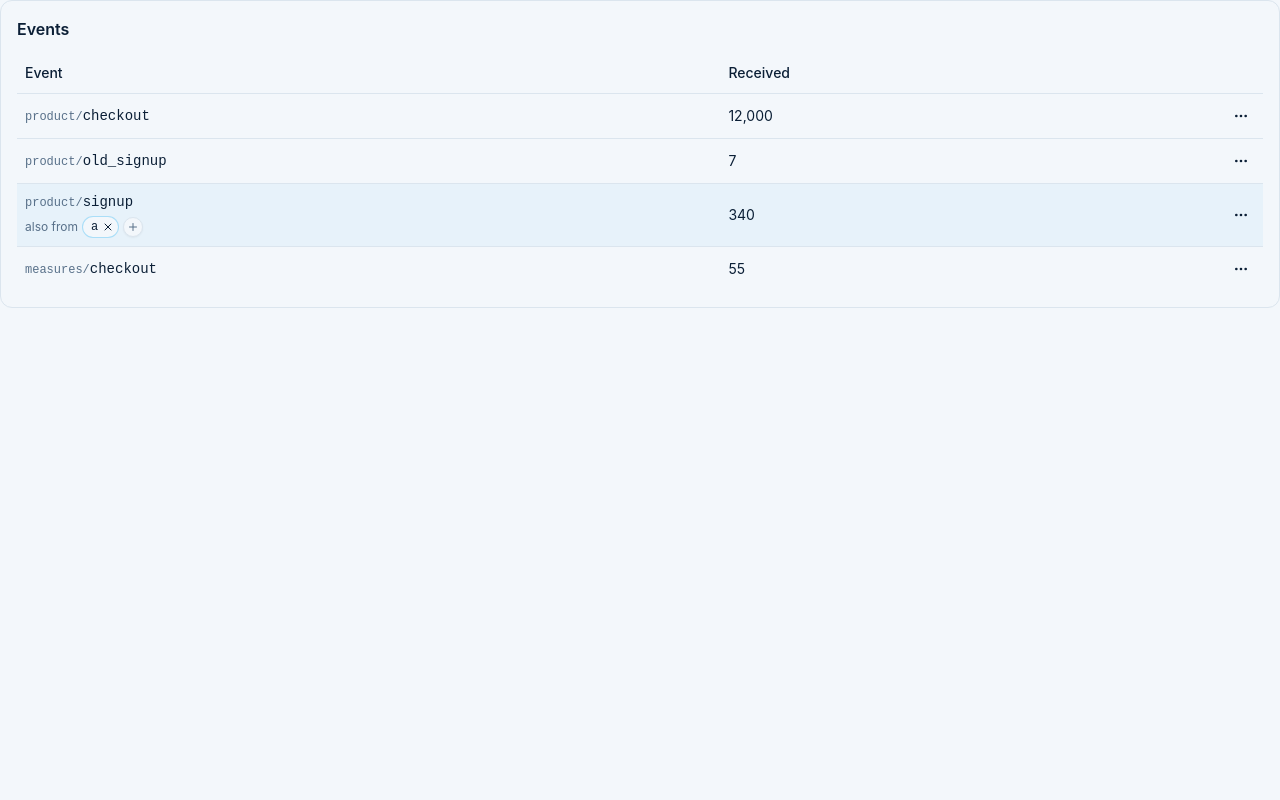
Test: EventsSection › refuses an empty alias, a $ name, the event itself and an existing alias
Click the button named "Add alias to signup" at {"x": 133, "y": 226}, box [123,216,143,236]
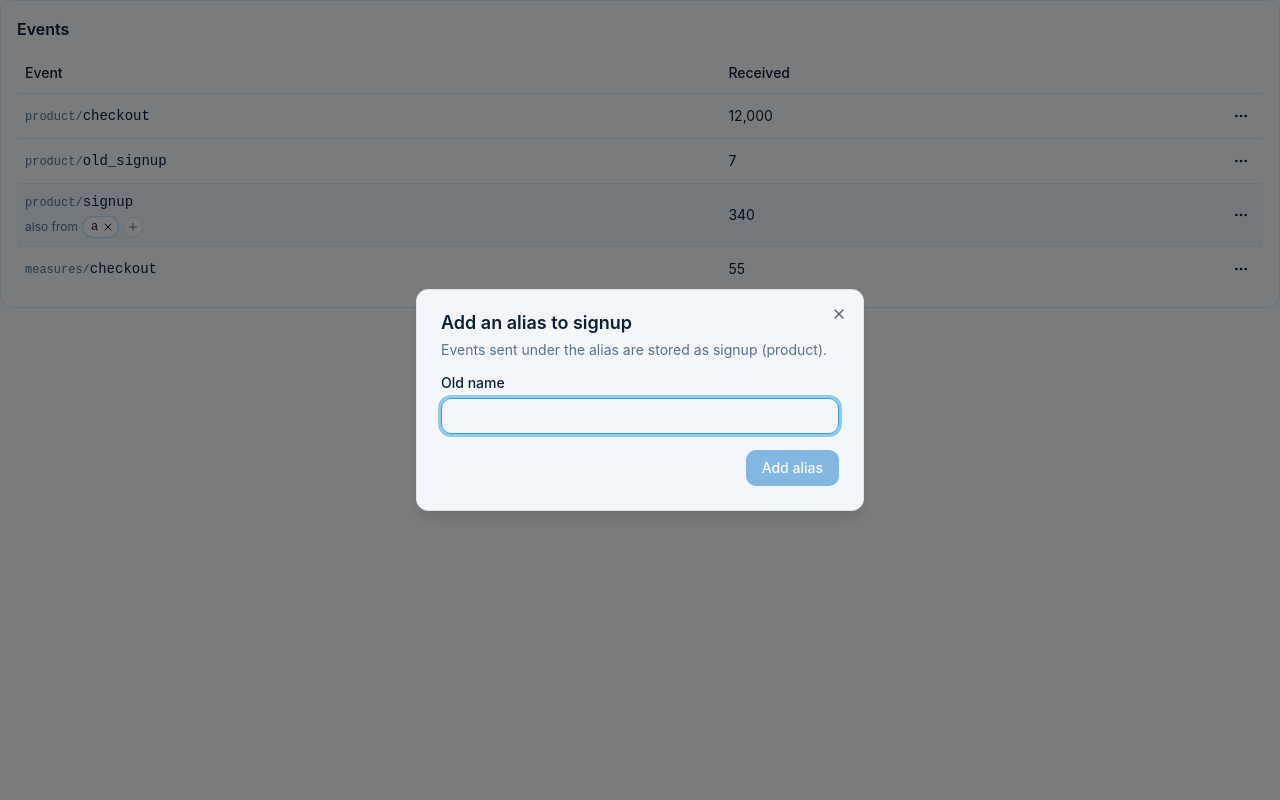
Expected: the button "Add alias" is disabled, [746,450,839,486]
Type "$x" into the field labelled "Old name" at {"x": 640, "y": 416}, box [441,398,839,434]
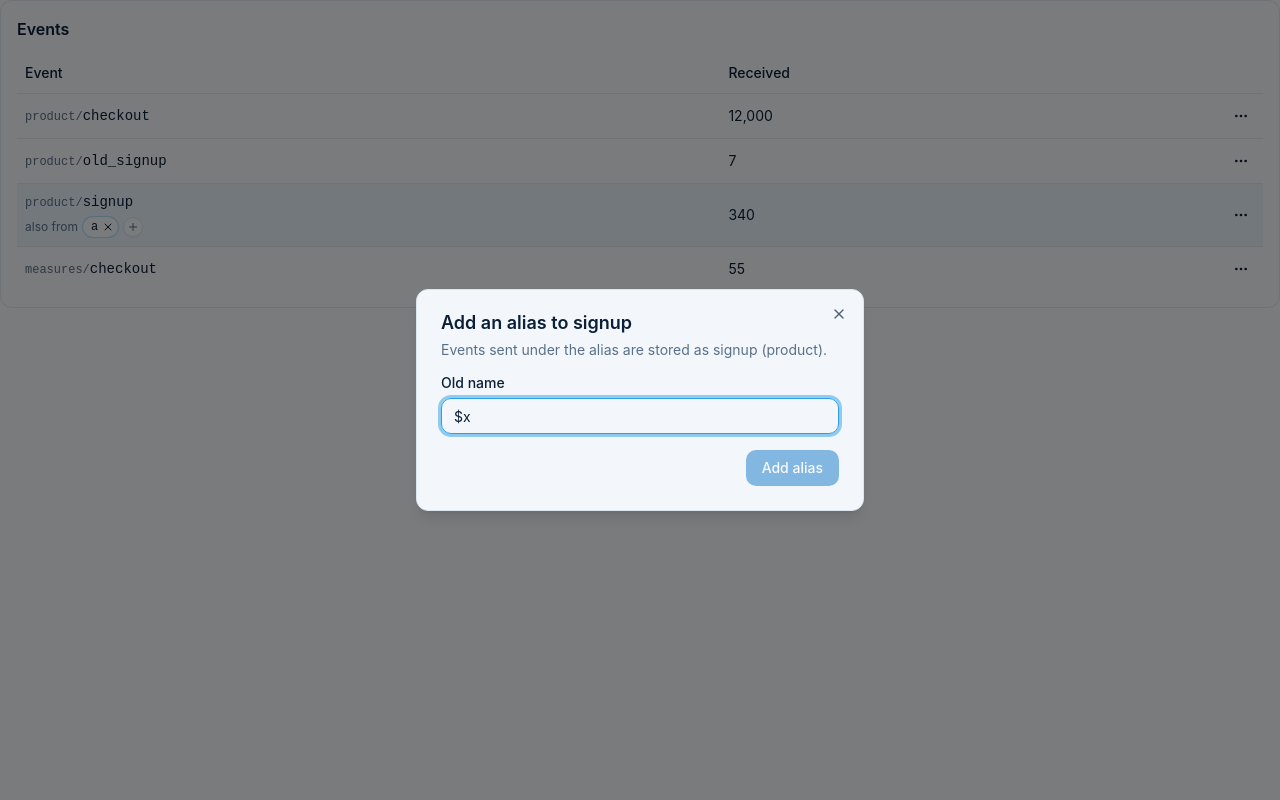
Expected: the button "Add alias" is disabled, [746,450,839,486]
Replace the text in the field labelled "Old name" with "signup" at {"x": 640, "y": 416}, box [441,398,839,434]
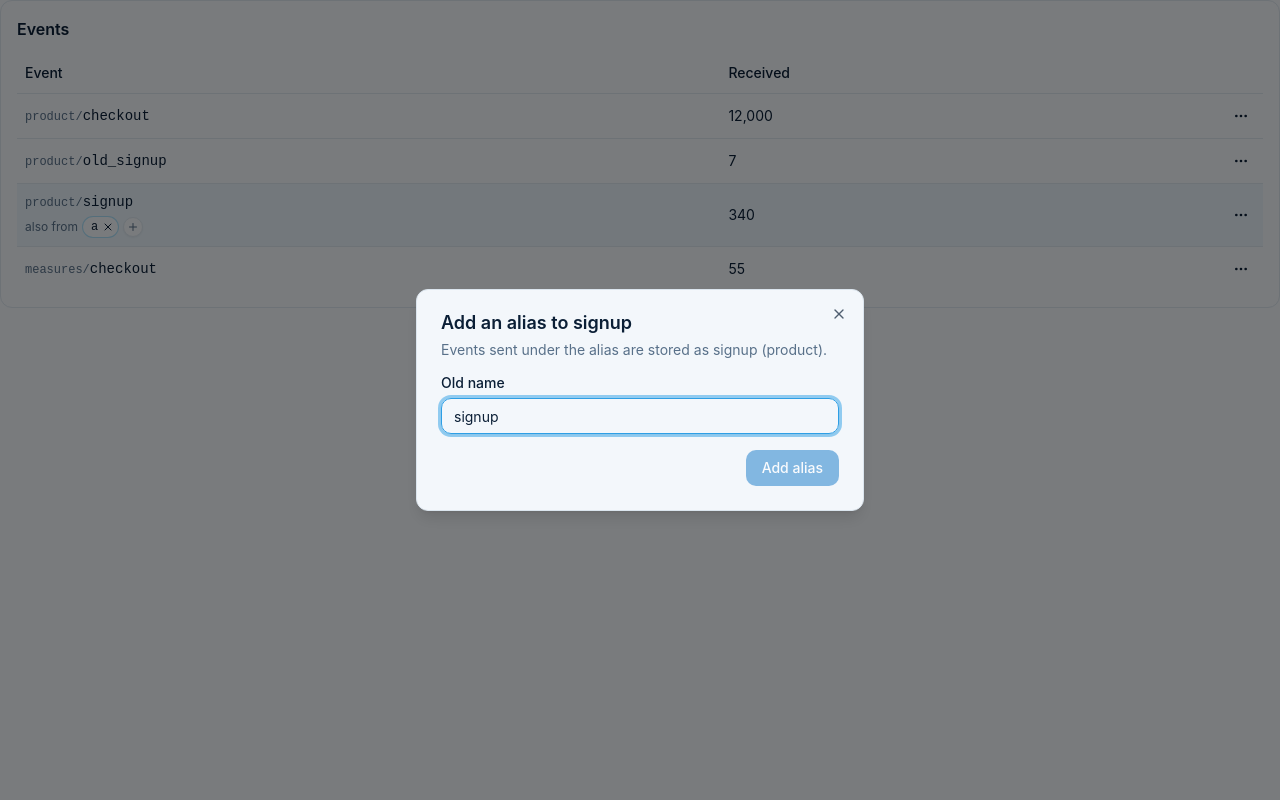
Expected: the button "Add alias" is disabled, [746,450,839,486]
Replace the text in the field labelled "Old name" with "a" at {"x": 640, "y": 416}, box [441,398,839,434]
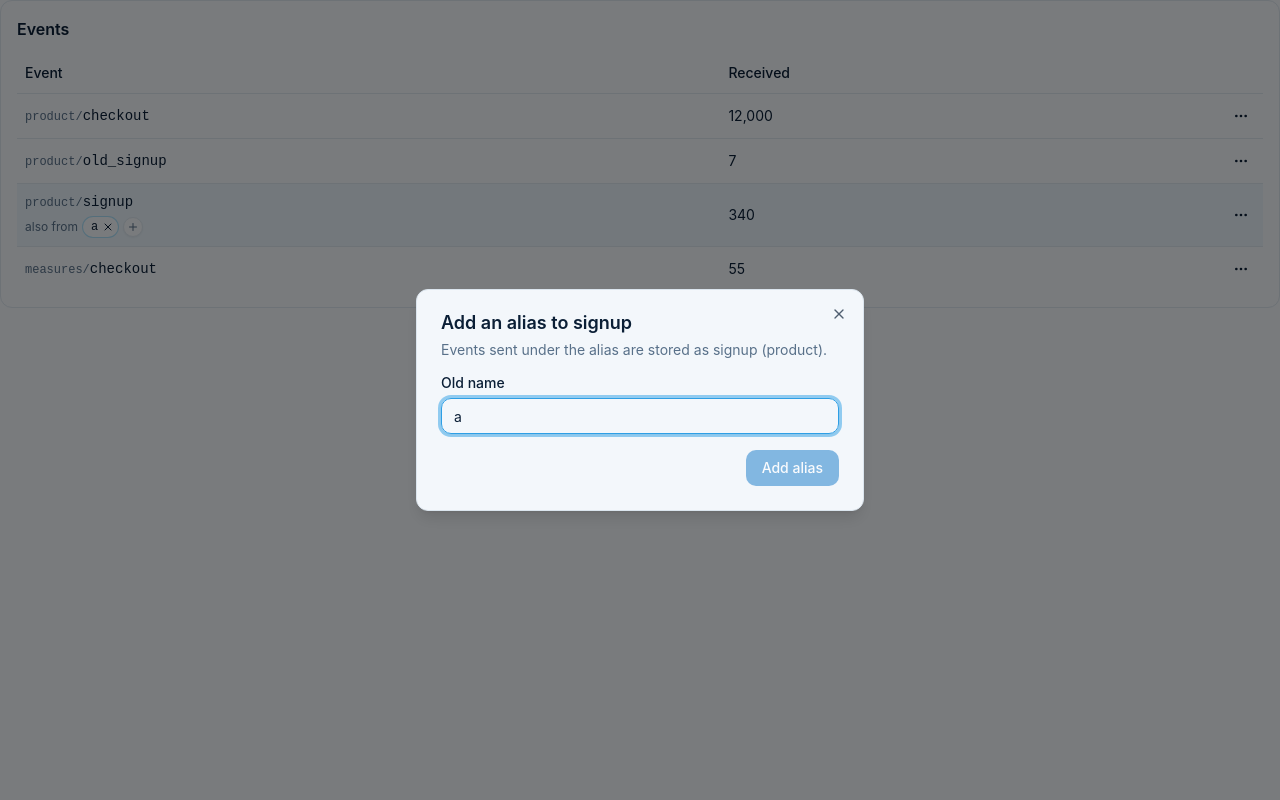
Expected: the button "Add alias" is disabled, [746,450,839,486]
Replace the text in the field labelled "Old name" with "b" at {"x": 640, "y": 416}, box [441,398,839,434]
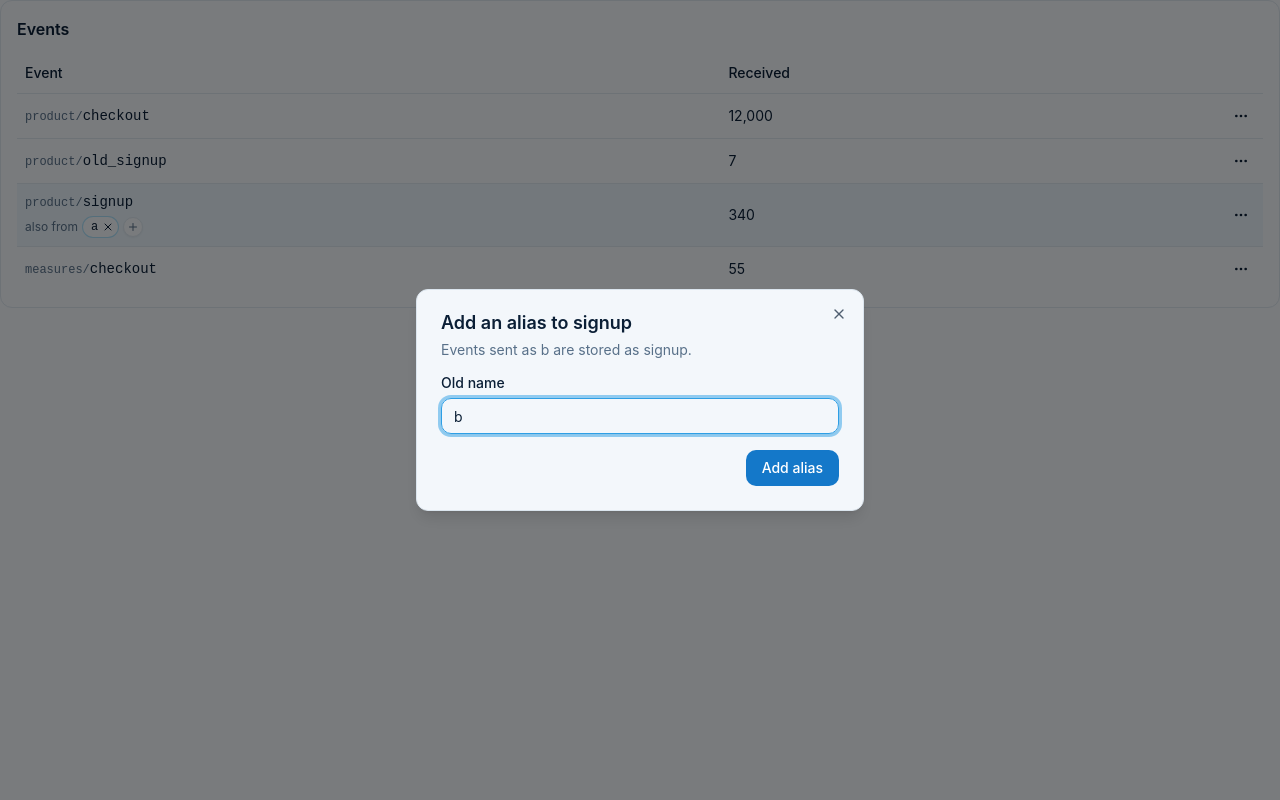
Expected: the button "Add alias" is enabled, [746,450,839,486]
